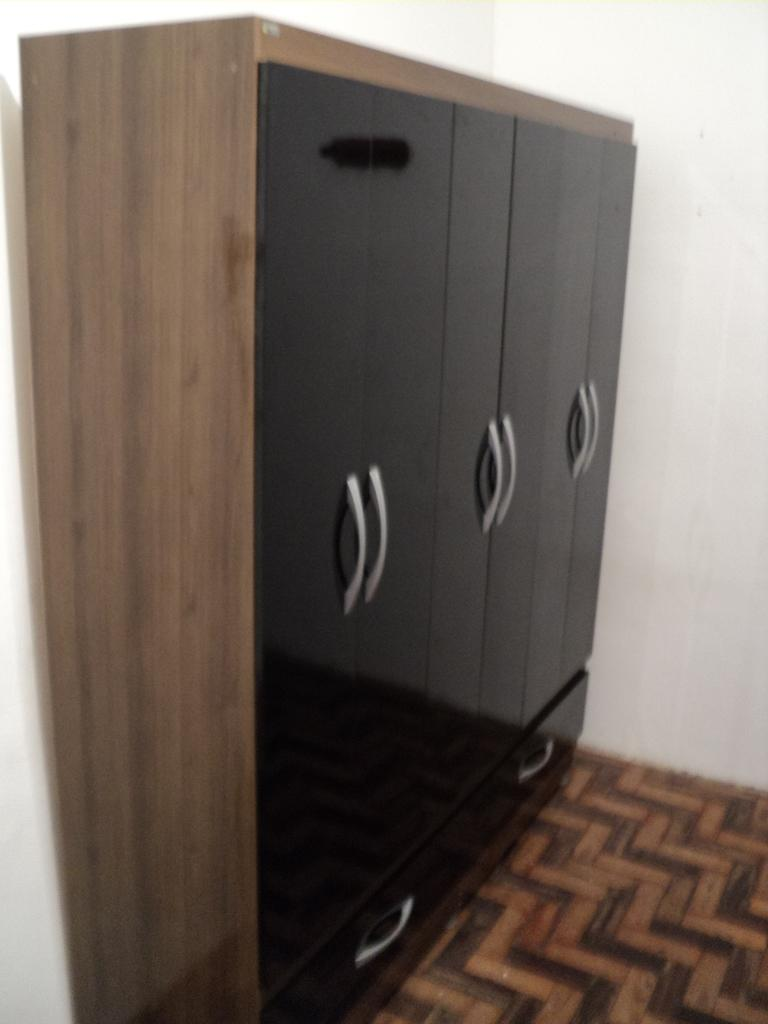cabinet_door: (260, 72, 364, 856), (367, 84, 435, 828), (453, 116, 500, 716), (499, 115, 538, 717), (541, 138, 580, 667), (580, 145, 618, 619), (289, 874, 441, 964), (453, 736, 578, 814)
handle: (342, 470, 368, 628), (364, 458, 390, 607), (354, 908, 414, 962), (480, 415, 504, 529), (511, 745, 558, 781), (503, 412, 518, 524), (586, 371, 603, 462), (576, 376, 590, 480)
